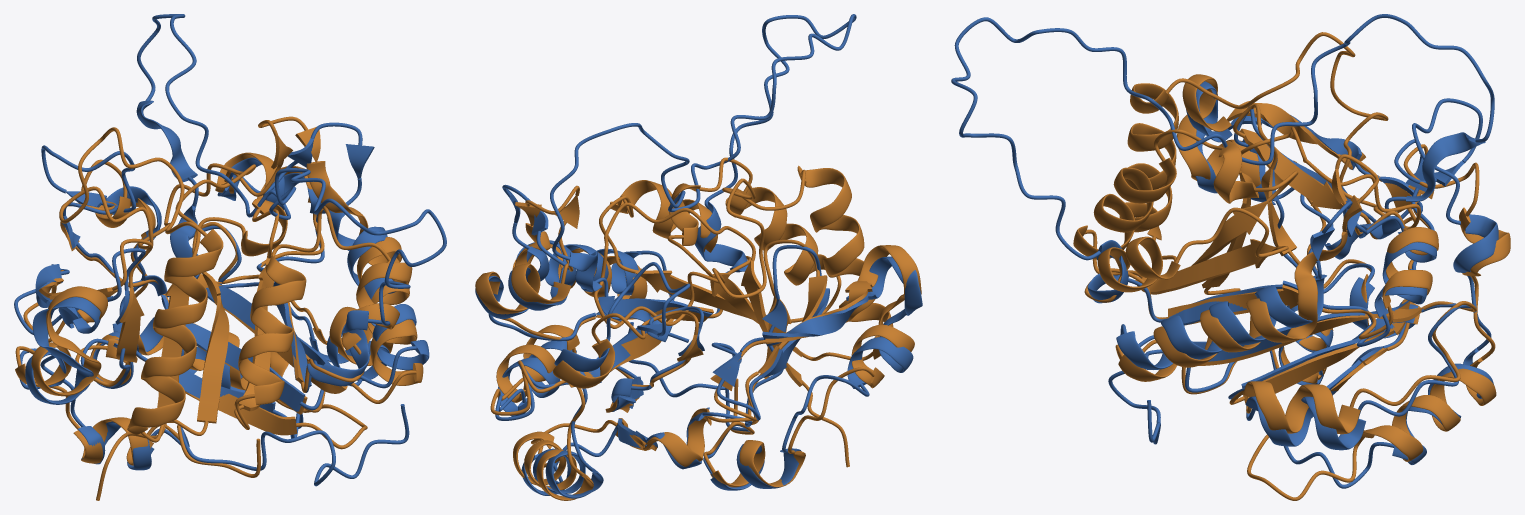
Rendered from AF-A0A2K8UJG1-F1-AF-A0A7P0TA11-F1.glb.
The picture shows the model from 3 angles, left to right: view 1: azimuth 30°, elevation 25°; view 2: azimuth 150°, elevation 25°; view 3: azimuth 270°, elevation 25°; orthographic projection. The views are drawn at different scales.
Bounding box in the file's own units: 47.39 × 47.33 × 56.64.
